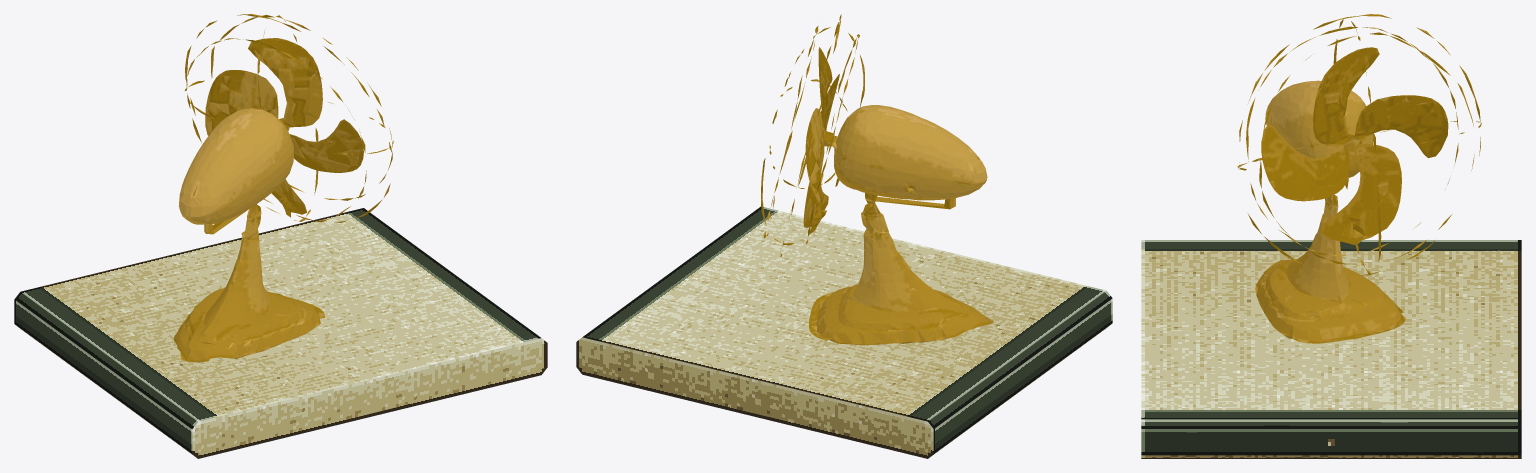
File: fan.glb
3 views of the same model, side by side, from view 1: azimuth 30°, elevation 25°; view 2: azimuth 150°, elevation 25°; view 3: azimuth 270°, elevation 25° (orthographic). The views are drawn at different scales.
Visible parts, largest first — view 1: base, model_fan; view 2: base, model_fan; view 3: base, model_fan.
Part boxes in pixels (x1,y1,x2,y2): base: [14, 208, 547, 458]; model_fan: [173, 14, 393, 362]; base: [576, 206, 1112, 458]; model_fan: [761, 14, 993, 345]; base: [1141, 240, 1521, 458]; model_fan: [1237, 14, 1481, 343].
Size of the model in its own units: 30 by 26.48 by 26.
Materials: 2 (2 with a texture image).
